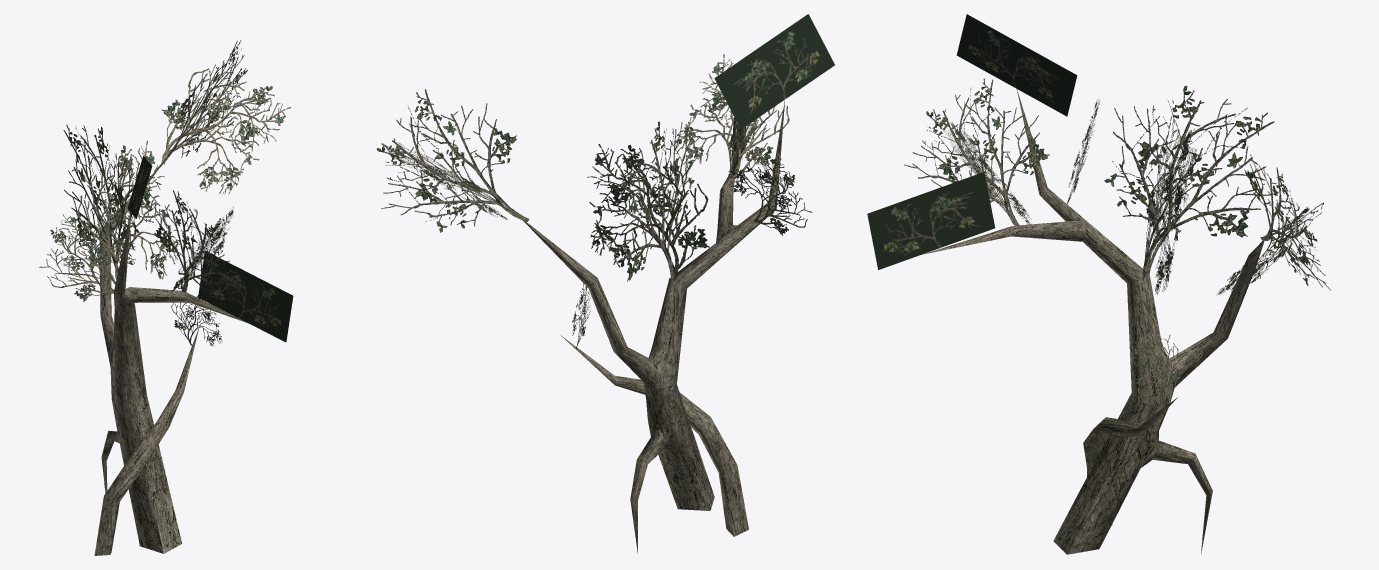
The model's file is mtns_shrb_gnarled_a2_l2.fbx.
3 views of the same model, side by side, from view 1: azimuth 30°, elevation 25°; view 2: azimuth 150°, elevation 25°; view 3: azimuth 270°, elevation 25° (orthographic). The views are drawn at different scales.
Visible parts, largest first — view 1: mesh_node; view 2: mesh_node; view 3: mesh_node.
Part boxes in pixels (left/top/right/bottom): mesh_node: left=39, top=40, right=293, bottom=555; mesh_node: left=376, top=14, right=834, bottom=553; mesh_node: left=867, top=14, right=1330, bottom=554.
Size of the model in its own units: 6.92 by 8.06 by 7.07.
